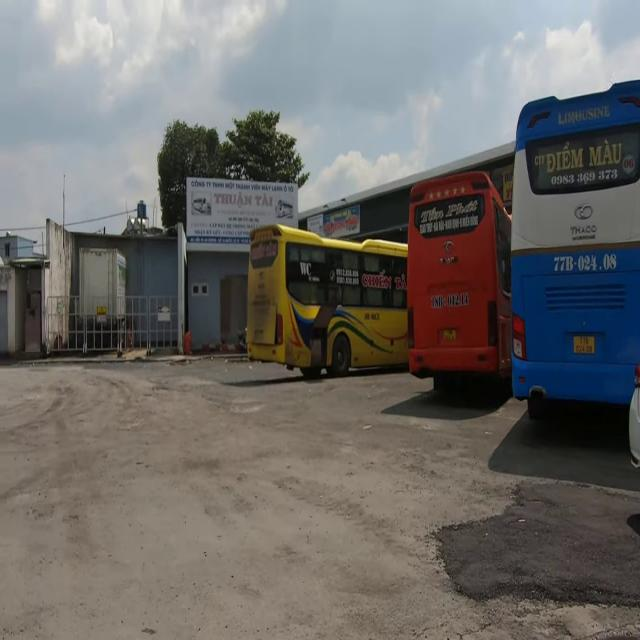bien_vang: (573, 334, 595, 358), (442, 327, 456, 340)
